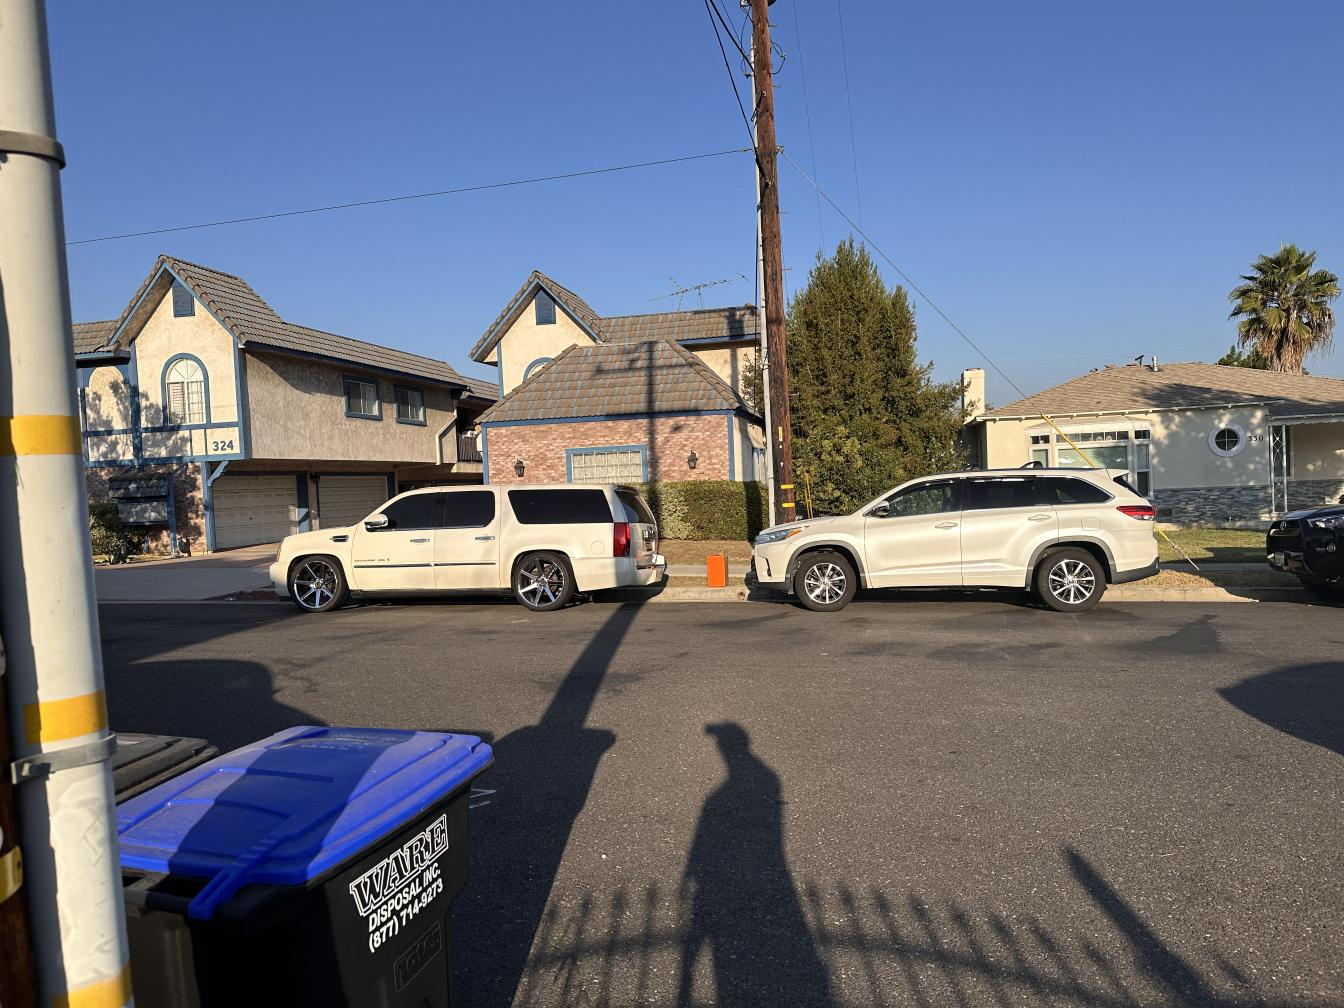curbs-laRr: (1150, 584, 1295, 604), (664, 586, 749, 605)
orange box: (705, 554, 731, 589)
